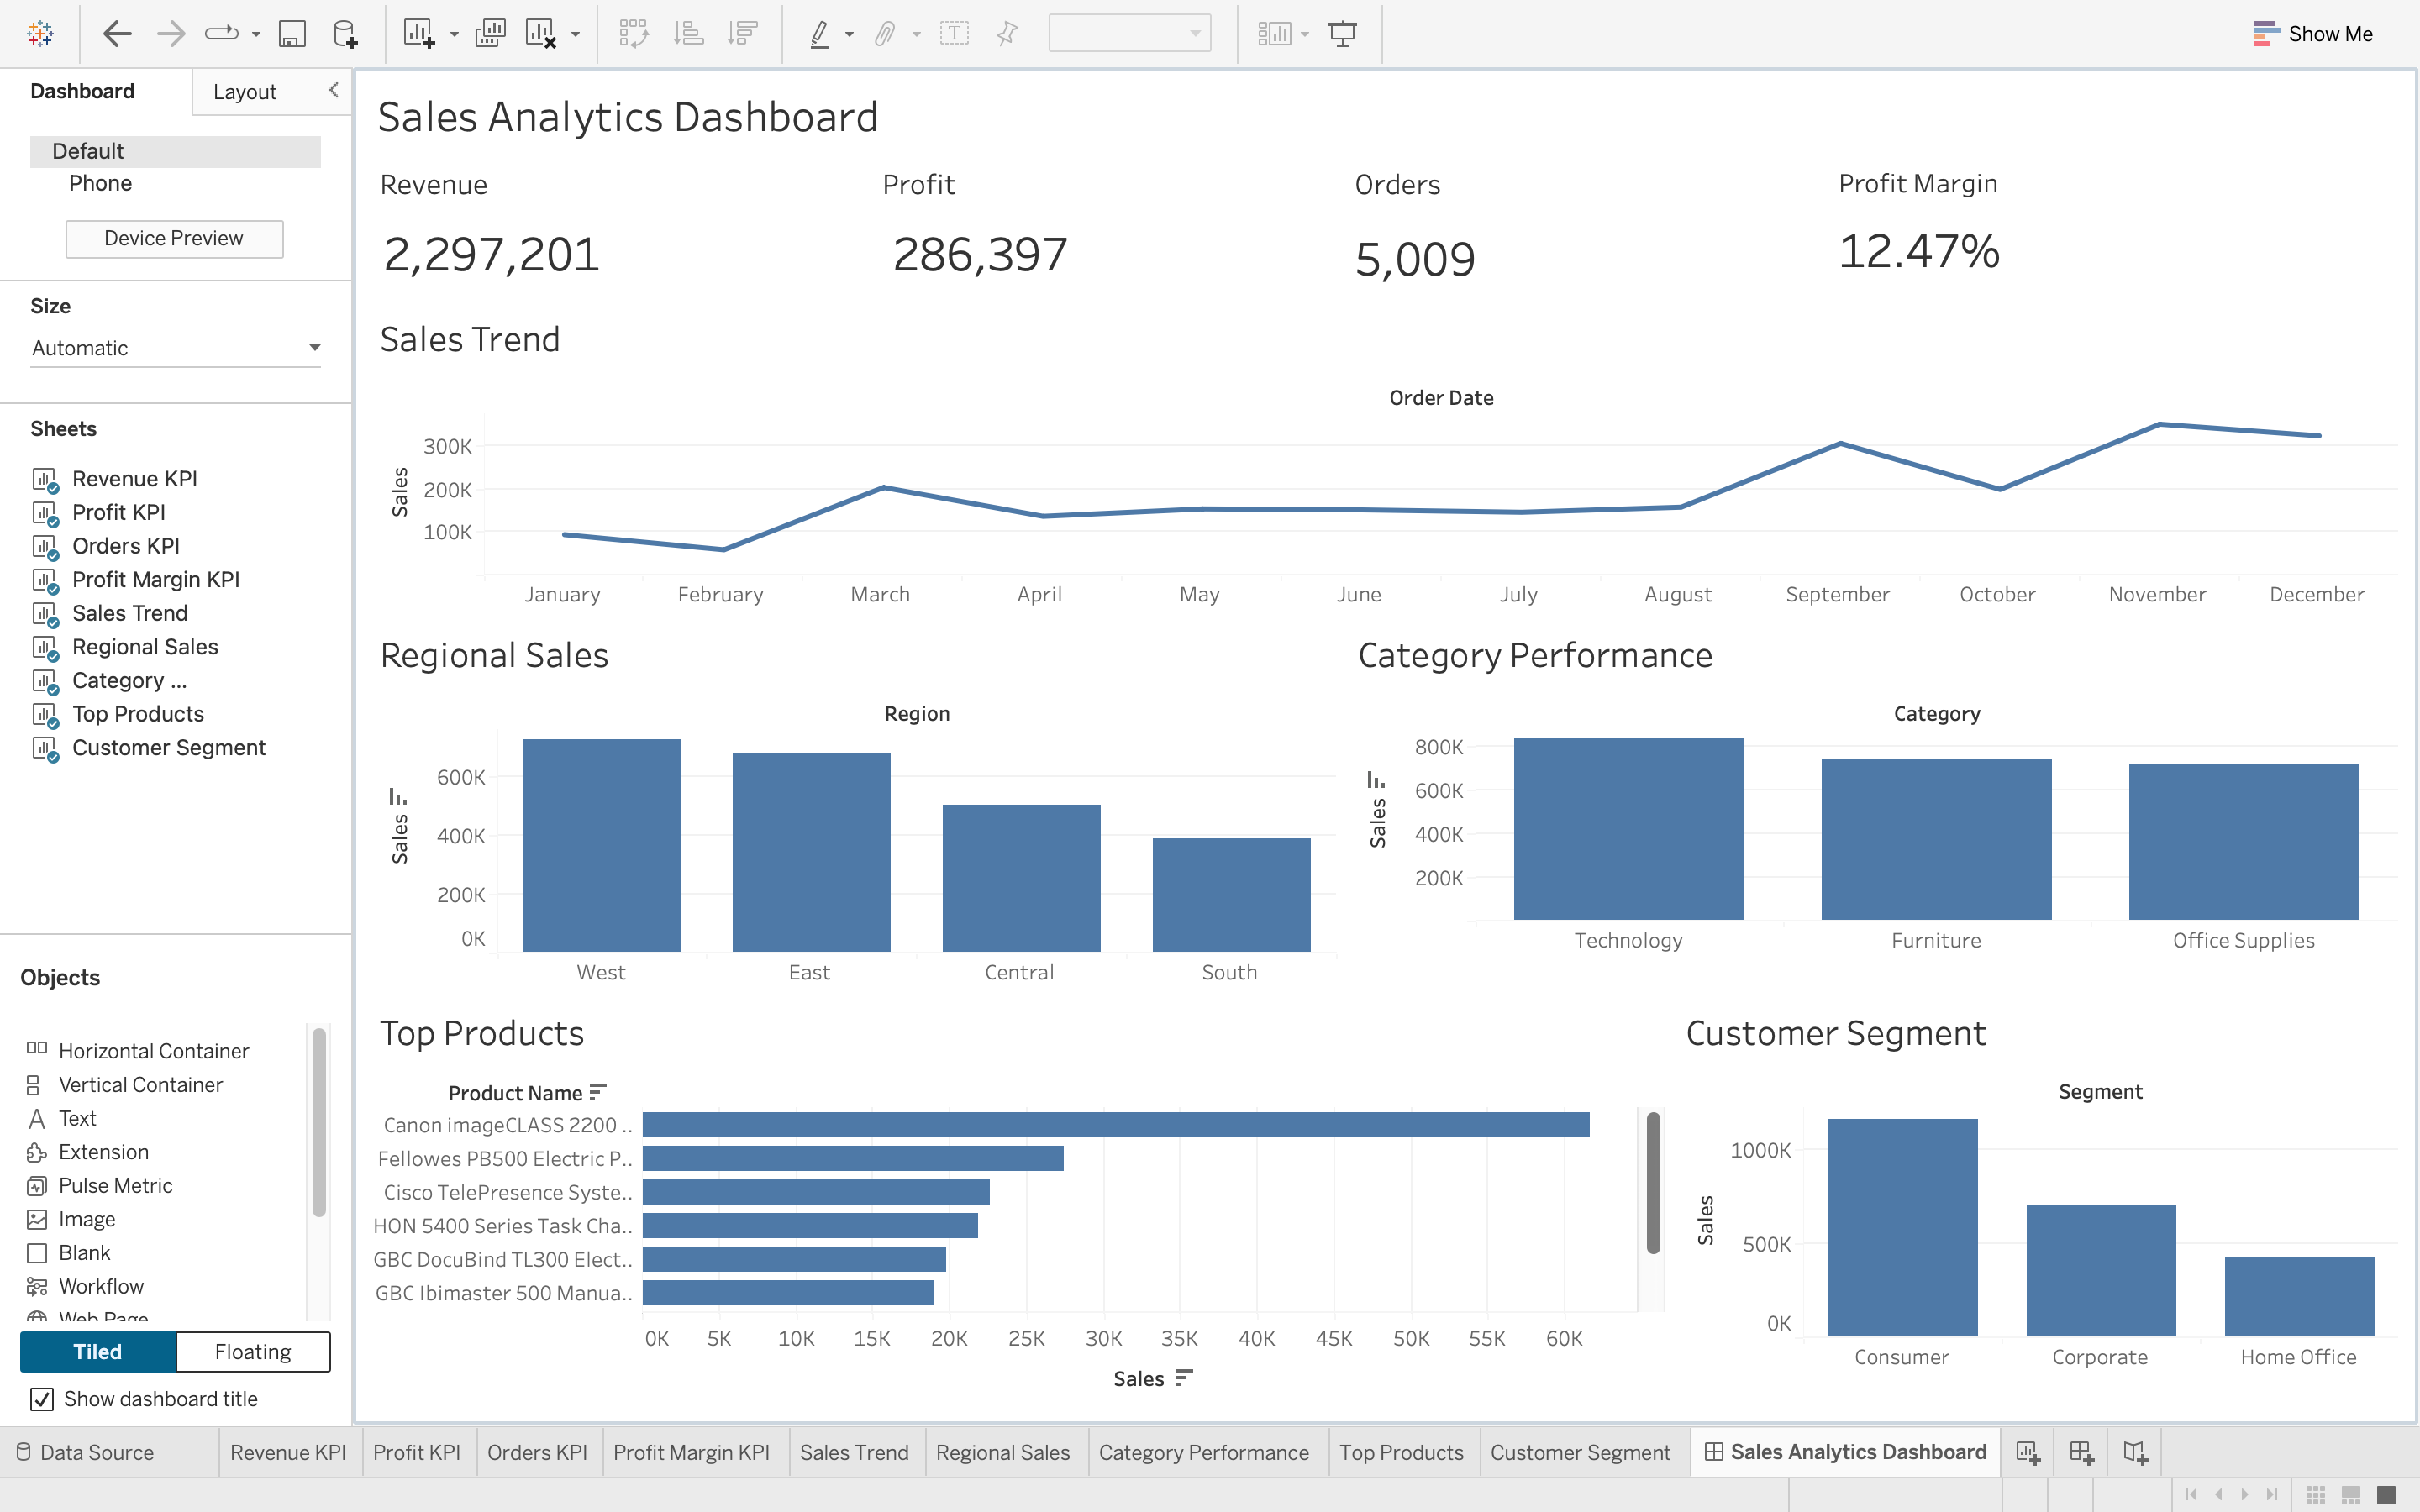

Layout of this report page (visuals, bound fields, positions):
{"tool":"tableau","page":{"name":"Sales Analytics Dashboard","canvas":[1000,1000],"units":"permille","ordinal":0},"visuals":[{"type":"title","box":[6.5,9.9,987,52]},{"type":"worksheet","title":"Revenue KPI","mark":"Automatic","box":[6.5,61.9,243.3,110.2]},{"type":"worksheet","title":"Profit KPI","mark":"Automatic","box":[249.8,61.9,228.6,110.2]},{"type":"worksheet","title":"Orders KPI","mark":"Text","box":[478.4,61.9,234.3,110.2]},{"type":"worksheet","title":"Profit Margin KPI","mark":"Automatic","box":[712.8,61.9,280.7,110.2]},{"type":"worksheet","title":"Sales Trend","mark":"Line","rows":["Sales"],"cols":["Order Date"],"box":[6.5,172,987,232.1]},{"type":"worksheet","title":"Regional Sales","mark":"Automatic","rows":["Sales"],"cols":["Region"],"box":[6.5,404.1,473.6,278.9]},{"type":"worksheet","title":"Category Performance","mark":"Automatic","rows":["Sales"],"cols":["Category"],"box":[480.1,404.1,513.4,278.9]},{"type":"worksheet","title":"Top Products","mark":"Automatic","rows":["Product Name"],"cols":["Sales"],"box":[6.5,683,632.2,307.1]},{"type":"worksheet","title":"Customer Segment","mark":"Automatic","rows":["Sales"],"cols":["Segment"],"box":[638.7,683,354.8,307.1]}]}

Visuals, with their boxes on the dashboard's canvas, which has no fixed pixel size, in thousandths of its width and height (x1, y1, x2, y2). These are canvas units, not pixel positions in the 2420x1512 screenshot, which may show the page scaled, cropped or inside an application window:
title: box=[6, 10, 994, 62]
"Revenue KPI" worksheet: box=[6, 62, 250, 172]
"Profit KPI" worksheet: box=[250, 62, 478, 172]
"Orders KPI" worksheet (Text marks): box=[478, 62, 713, 172]
"Profit Margin KPI" worksheet: box=[713, 62, 994, 172]
"Sales Trend" worksheet (Line marks): box=[6, 172, 994, 404]
"Regional Sales" worksheet: box=[6, 404, 480, 683]
"Category Performance" worksheet: box=[480, 404, 994, 683]
"Top Products" worksheet: box=[6, 683, 639, 990]
"Customer Segment" worksheet: box=[639, 683, 994, 990]
